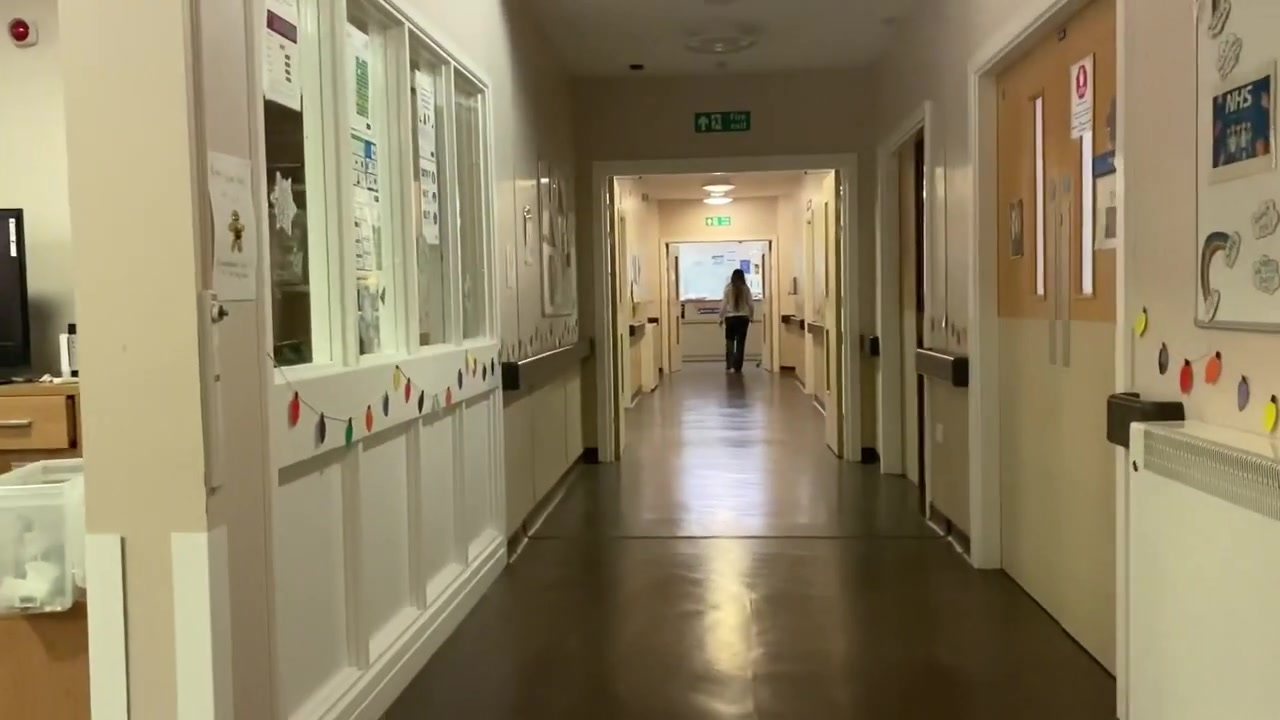hallway_assist_bar: (501, 336, 593, 391), (1107, 392, 1185, 449), (914, 347, 969, 387), (859, 333, 880, 358)
handle: (1, 420, 30, 427)
person: (716, 269, 757, 371)
